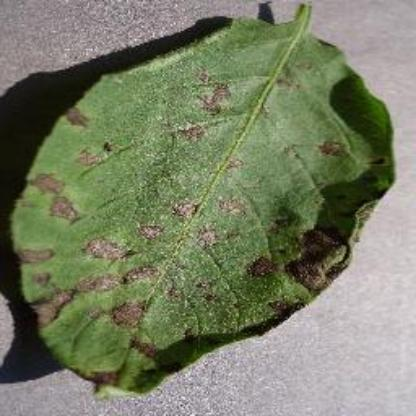Early-Blight: (13, 3, 408, 399)
